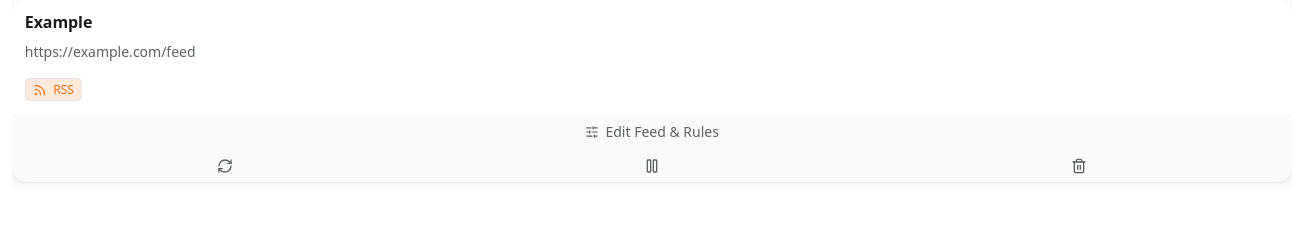
Test case: FeedCard parse — a dropped stream follows the server-owned run (RAD-407) › gives up with an honest error only after the status check keeps failing
The image size is (1304, 249).
Click the button named "Run parsing". click: (225, 166)
box: [12,150,439,182]
Wait 60000 ms
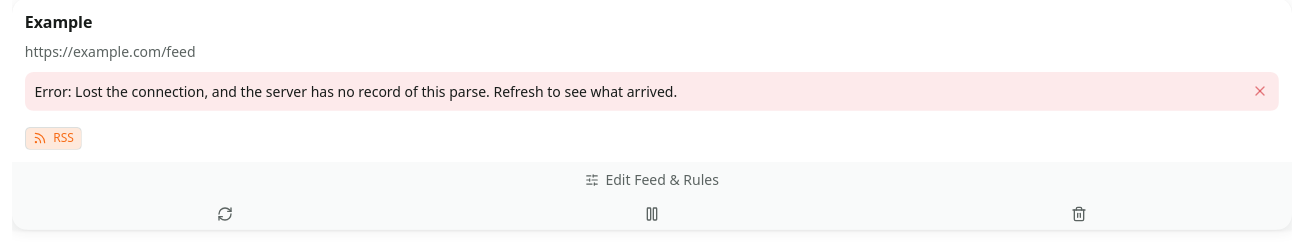
Result: the message shows "Lost the connection" at [75,82,677,101]
